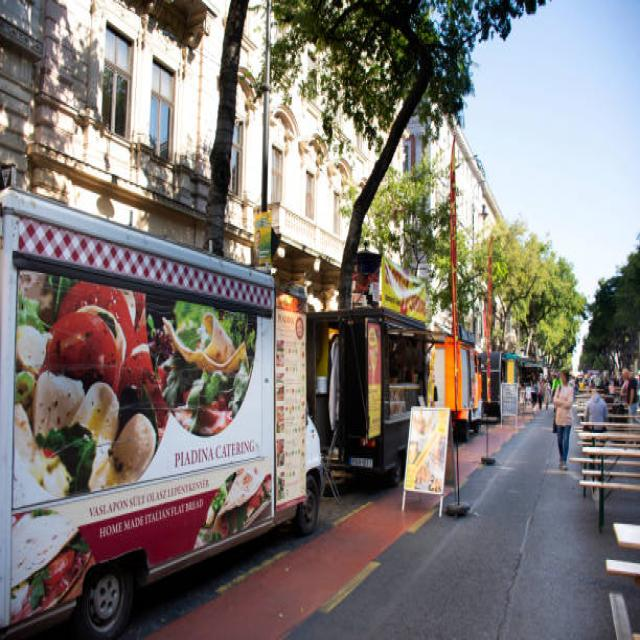Emperan: (0, 180, 326, 639), (298, 260, 474, 530)
